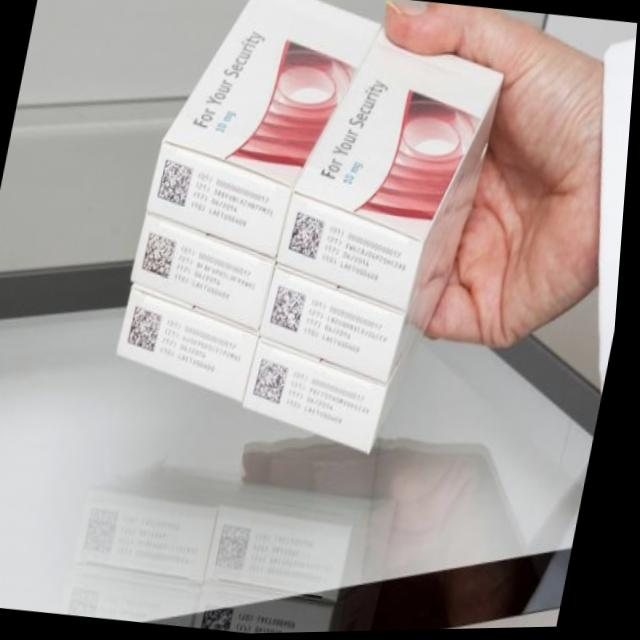datamatrix: (287, 204, 334, 268), (155, 153, 203, 214), (142, 224, 188, 281), (272, 282, 316, 338), (256, 352, 298, 410), (128, 304, 175, 354)
